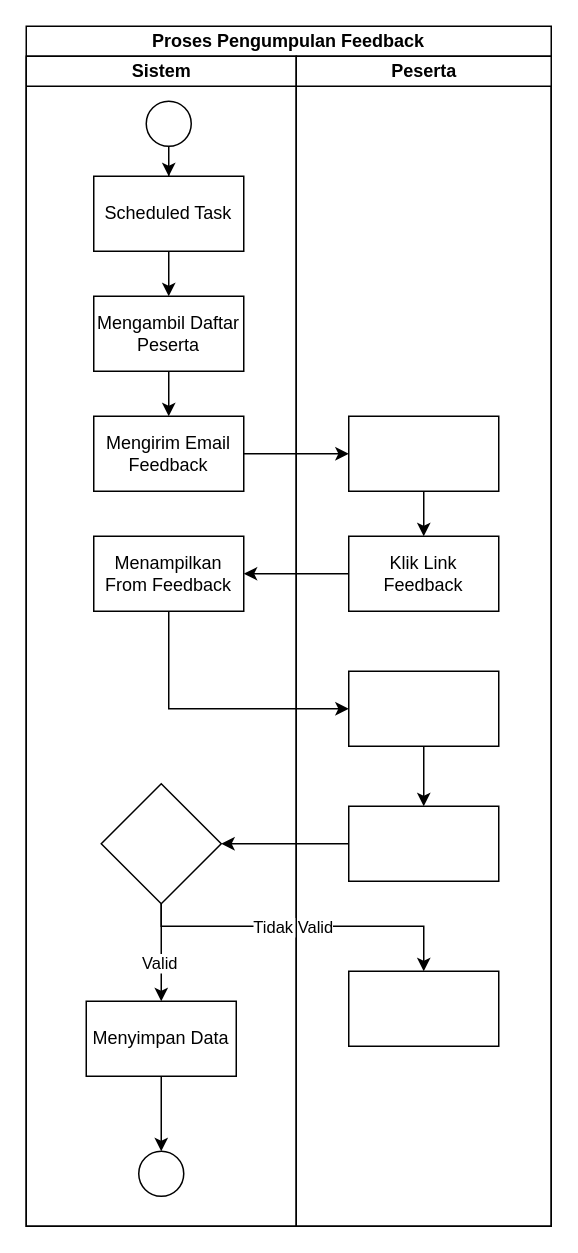
The diagram is 578 pixels wide and 1253 high, and some of its shapes have lost their labels. The shapes that lost their labels are listed below. From the top down, each one's centre as x and y in pixels, then its label:
At (423,453): "Menerima Email/Membuka Email".
At (423,708): "Mengisi From".
At (160,843): "Valid?".
At (423,843): "Kirim Feedback".
At (423,1008): "Ulang".
